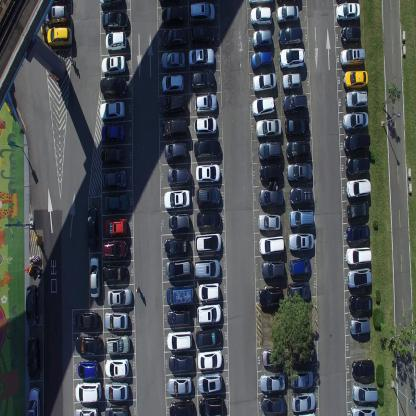car: (166, 282, 195, 306), (194, 230, 222, 253), (99, 75, 127, 98), (343, 131, 371, 154), (165, 257, 192, 280), (193, 138, 221, 160), (74, 380, 102, 402), (278, 47, 306, 69), (161, 117, 187, 140), (25, 282, 38, 328), (166, 328, 192, 351), (352, 380, 378, 403), (346, 266, 372, 289), (163, 188, 190, 210), (195, 326, 222, 348), (258, 234, 285, 256), (188, 47, 216, 68), (74, 335, 102, 356), (86, 204, 99, 249), (27, 335, 40, 380), (160, 93, 185, 116), (190, 69, 215, 92), (189, 23, 214, 46), (194, 257, 220, 279), (161, 26, 187, 48), (189, 1, 215, 23), (46, 26, 72, 48), (104, 356, 130, 378), (197, 349, 223, 371), (197, 371, 223, 393), (260, 394, 286, 416), (345, 177, 371, 199), (284, 116, 310, 138), (258, 286, 284, 308), (339, 46, 366, 67), (255, 118, 282, 139), (346, 198, 370, 221), (336, 0, 360, 23), (196, 185, 221, 207), (101, 54, 126, 76), (107, 286, 132, 308), (105, 333, 130, 355), (104, 379, 129, 401), (168, 374, 193, 396), (278, 26, 303, 48), (285, 138, 310, 160), (101, 168, 127, 189), (197, 303, 223, 324), (290, 391, 316, 412), (345, 156, 371, 177), (341, 111, 368, 131), (288, 208, 315, 228), (194, 92, 217, 115), (194, 114, 218, 136), (43, 3, 67, 25), (344, 89, 368, 111), (251, 94, 275, 116), (160, 50, 185, 71), (102, 11, 127, 32), (168, 352, 193, 373), (102, 262, 128, 282), (164, 236, 190, 256), (260, 372, 286, 392), (342, 68, 368, 88), (282, 93, 308, 113), (257, 140, 283, 160), (288, 231, 314, 251), (89, 256, 101, 299), (345, 246, 372, 265), (104, 216, 127, 238), (349, 293, 373, 314), (252, 71, 276, 92), (262, 258, 286, 279), (195, 162, 220, 182), (103, 192, 128, 212), (74, 310, 99, 330), (167, 308, 192, 328), (198, 395, 223, 415), (99, 101, 125, 120), (258, 188, 284, 207), (101, 240, 128, 258), (77, 358, 100, 379), (276, 3, 299, 24), (167, 166, 191, 186), (162, 4, 186, 24), (101, 123, 125, 143), (104, 310, 128, 330), (290, 368, 314, 388), (351, 358, 375, 378), (346, 224, 370, 244), (287, 281, 311, 301), (258, 162, 283, 181), (289, 186, 314, 205), (164, 141, 186, 162), (168, 212, 191, 232), (100, 145, 123, 165), (250, 6, 273, 26), (258, 212, 281, 232), (286, 163, 313, 180), (196, 210, 221, 228), (105, 32, 127, 52), (250, 51, 273, 70), (340, 24, 361, 44), (162, 73, 184, 92), (289, 257, 311, 276), (198, 282, 221, 300), (27, 386, 41, 415), (169, 400, 194, 416), (252, 28, 272, 48), (261, 349, 284, 366), (350, 316, 370, 335), (282, 72, 302, 90), (350, 403, 377, 415), (105, 403, 128, 415), (98, 0, 124, 10), (74, 405, 99, 415), (249, 0, 272, 8)
